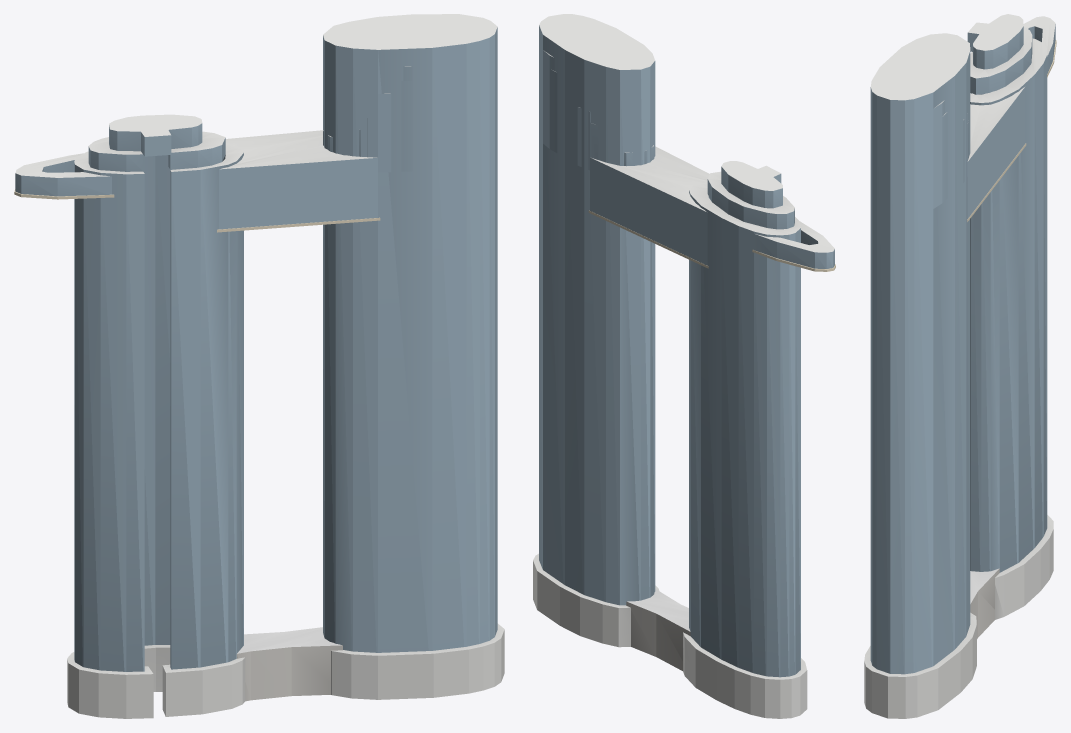
Rendered from address_sky_view_lod1.glb.
The picture shows the model from 3 angles, left to right: view 1: azimuth 30°, elevation 25°; view 2: azimuth 150°, elevation 25°; view 3: azimuth 270°, elevation 25°; orthographic projection. The views are drawn at different scales.
Parts seen in each view (by area): view 1: address_sky_view_lod1; view 2: address_sky_view_lod1; view 3: address_sky_view_lod1.
Boxes of the visible parts, x1,y1,x2,y2 form: address_sky_view_lod1: (14, 14, 504, 718); address_sky_view_lod1: (533, 14, 835, 718); address_sky_view_lod1: (864, 14, 1056, 718).
Size of the model in its own units: 175 by 264 by 74.71.
